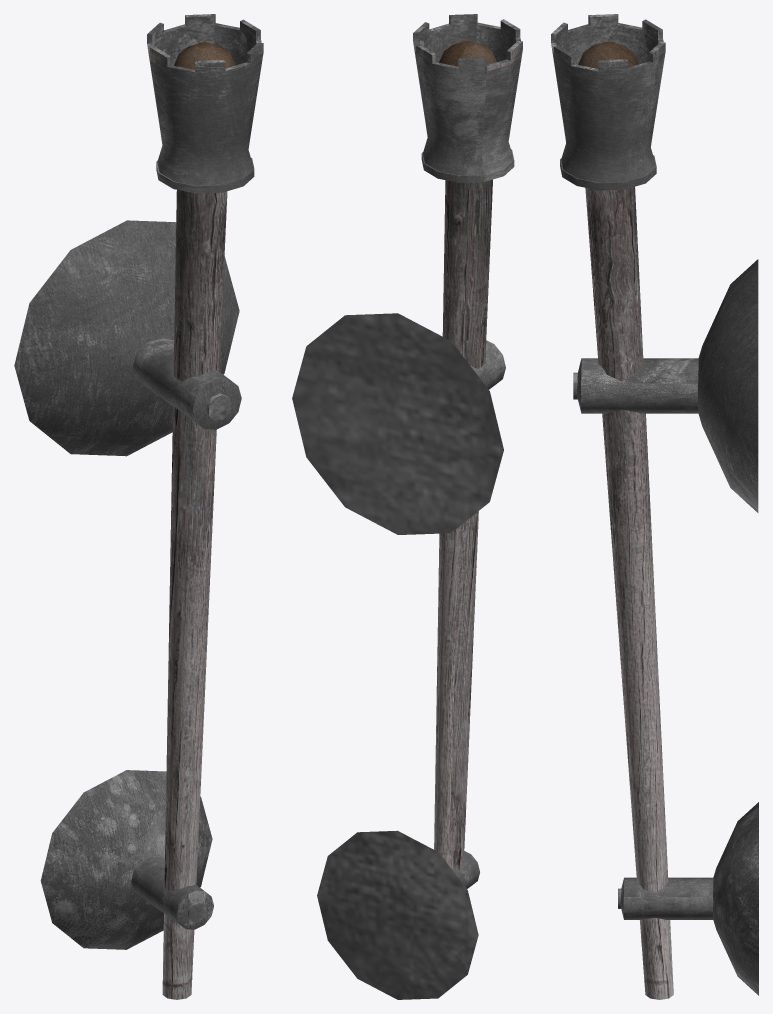
The model's file is torch2.FBX.
3 views of the same model, side by side, from view 1: azimuth 30°, elevation 25°; view 2: azimuth 150°, elevation 25°; view 3: azimuth 270°, elevation 25° (orthographic). The views are drawn at different scales.
Visible parts, largest first — view 1: Cylinder019; view 2: Cylinder019; view 3: Cylinder019.
Boxes of the visible parts, <box> form: Cylinder019: <box>14,14,263,999</box>; Cylinder019: <box>292,14,522,999</box>; Cylinder019: <box>551,14,758,999</box>.
Size of the model in its own units: 25.62 by 106 by 20.83.
1 material, 1 textured.
